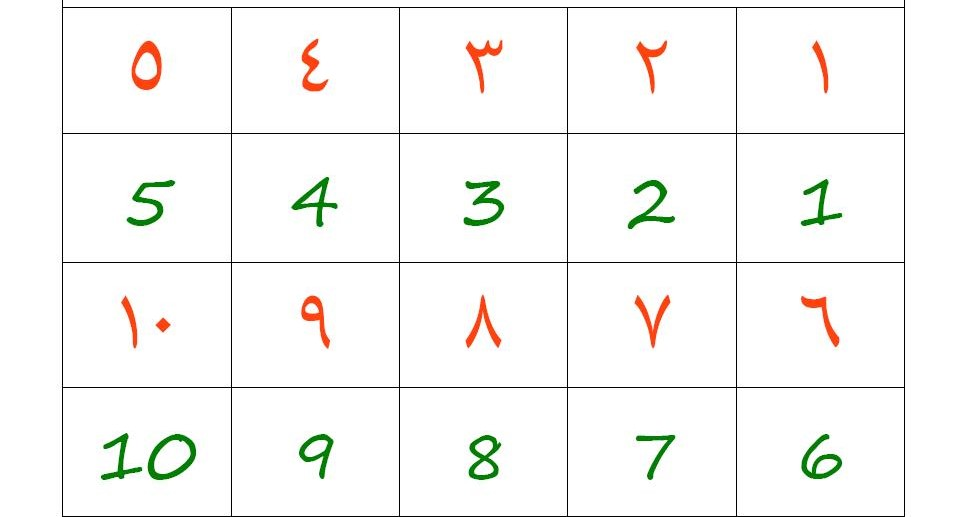character: (435, 278, 549, 370), (257, 156, 364, 246), (782, 34, 877, 121), (422, 418, 529, 492), (250, 287, 348, 362), (445, 23, 531, 106), (276, 417, 366, 493), (271, 23, 346, 113), (791, 283, 864, 370), (781, 418, 855, 500), (100, 164, 184, 234), (609, 164, 686, 240), (104, 284, 184, 356), (615, 413, 689, 490), (613, 26, 686, 101), (620, 292, 689, 370), (445, 167, 520, 236), (117, 22, 180, 101), (791, 170, 847, 253), (144, 427, 214, 492), (78, 418, 140, 490)
